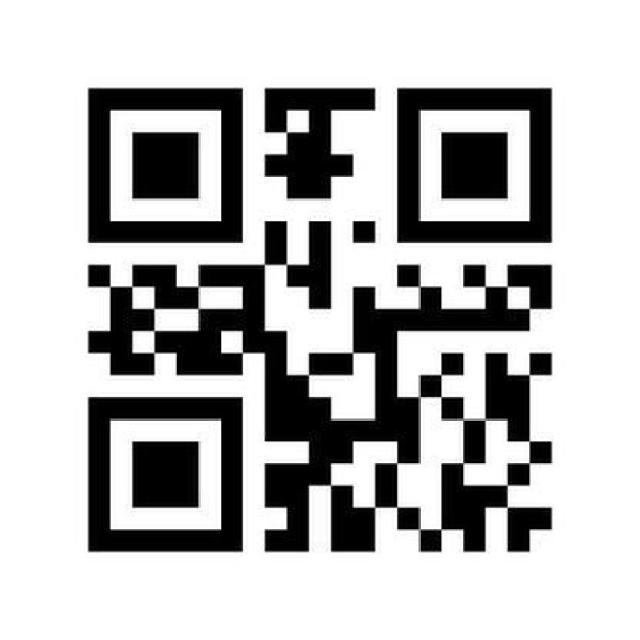QRCode: (78, 76, 564, 562)
